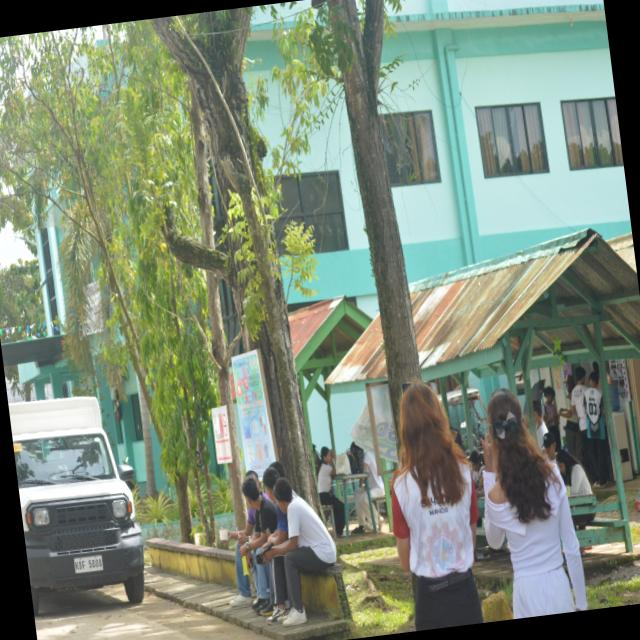person: (483, 389, 587, 618), (392, 382, 483, 630), (264, 478, 336, 626), (571, 367, 598, 485), (584, 372, 610, 486), (229, 508, 258, 606), (318, 447, 345, 537), (560, 375, 585, 464), (543, 386, 561, 446), (352, 481, 372, 534), (533, 400, 548, 452), (540, 430, 559, 466)
